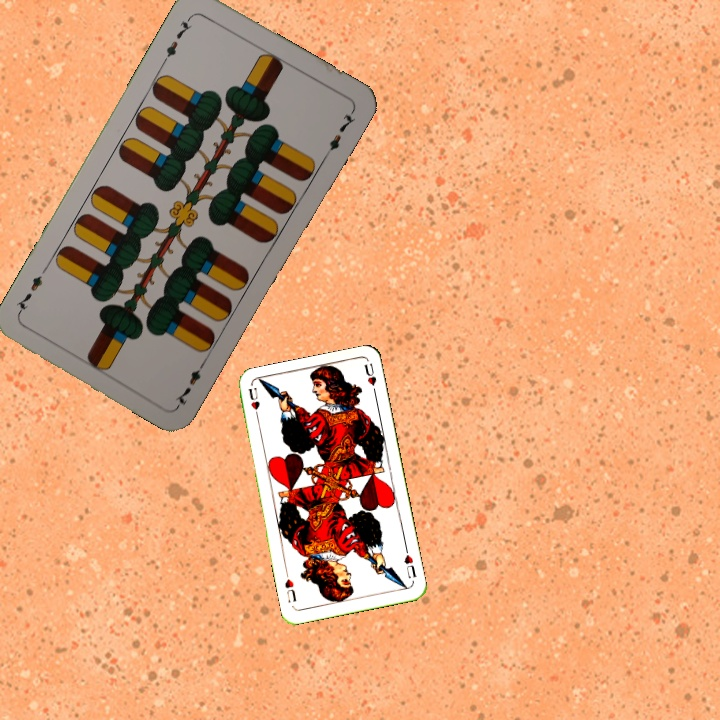E7: (171, 355, 210, 409), (159, 12, 195, 66)
HU: (400, 544, 419, 581), (244, 384, 262, 423)
